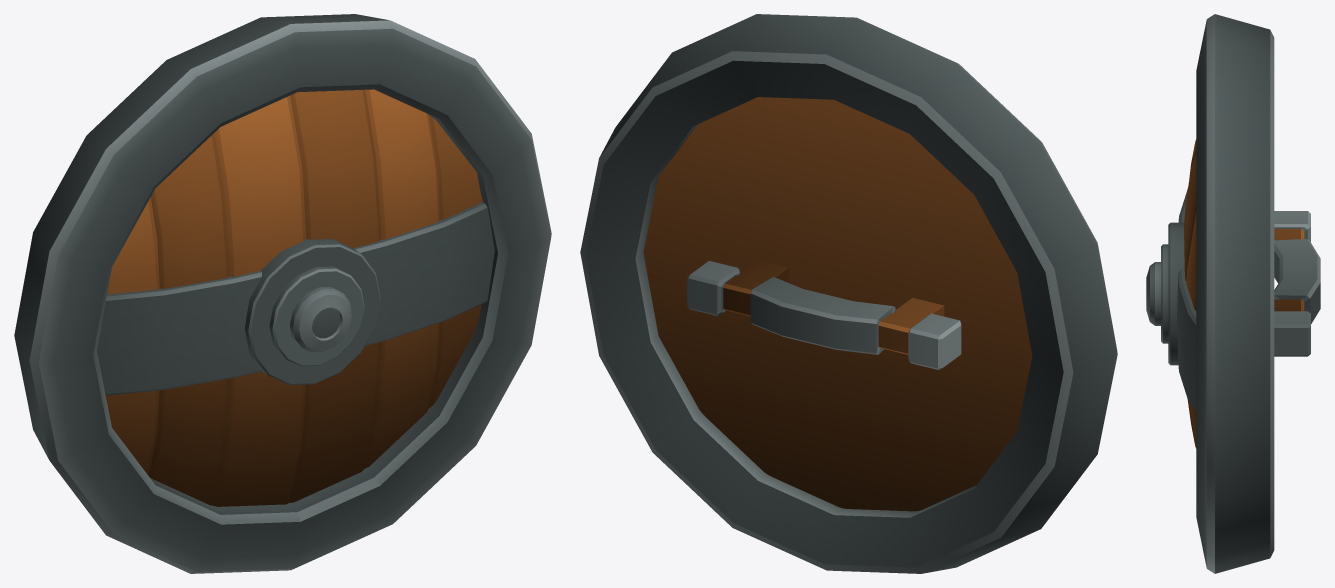
Rendered from Shield-2.fbx.
3 views of the same model, side by side, from view 1: azimuth 30°, elevation 25°; view 2: azimuth 150°, elevation 25°; view 3: azimuth 270°, elevation 25° (orthographic). The views are drawn at different scales.
Parts seen in each view (by area): view 1: Shield-2; view 2: Shield-2; view 3: Shield-2.
Boxes of the visible parts, x1,y1,x2,y2 form: Shield-2: [14, 14, 551, 573]; Shield-2: [580, 14, 1117, 573]; Shield-2: [1146, 14, 1320, 573].
Size of the model in its own units: 104 by 104 by 32.32.
